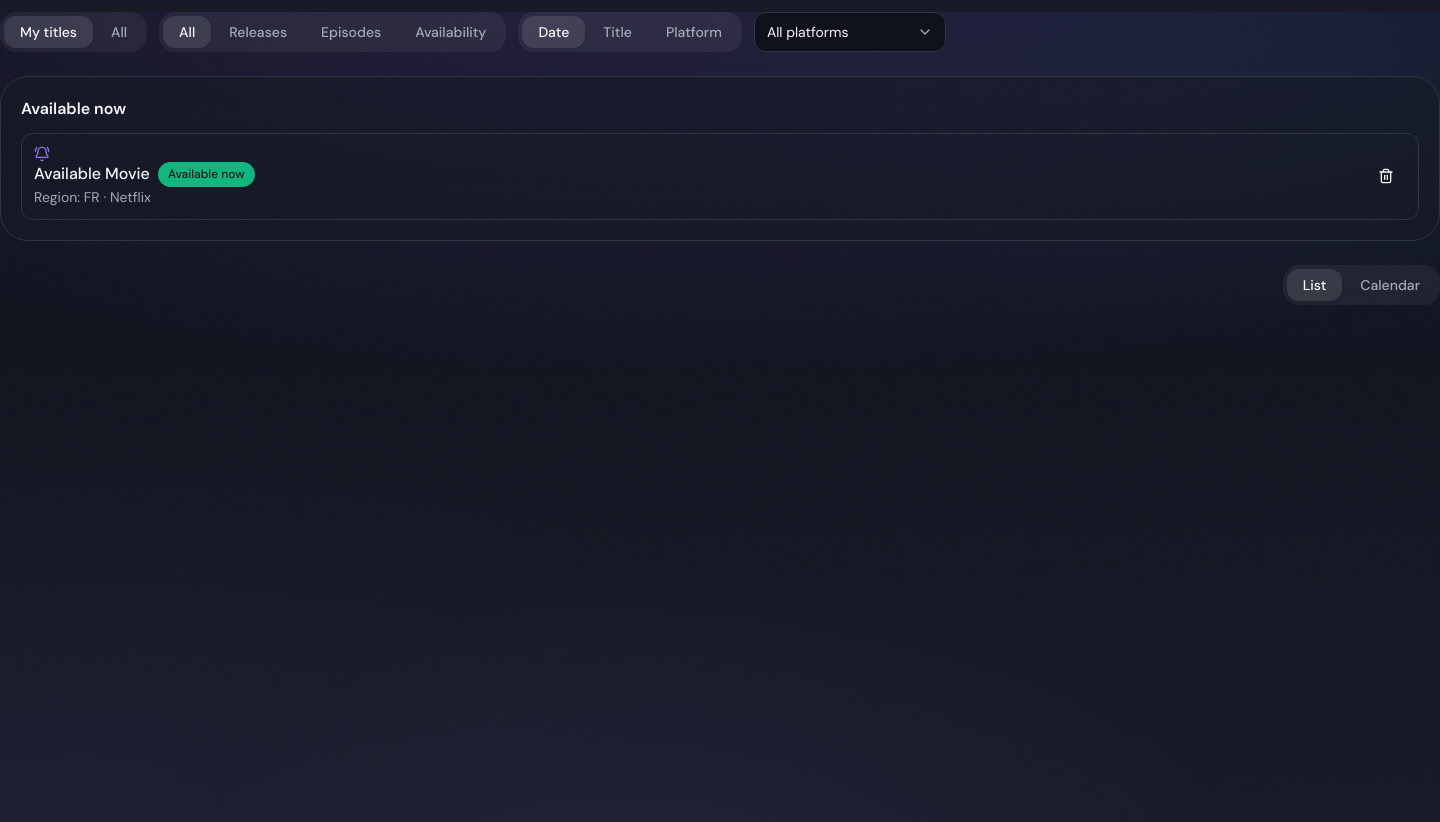
Test: TrackingList › hides the list/calendar toggle when only availability entries are shown
Click the button "Availability" at (451, 32), box [399, 16, 502, 48]
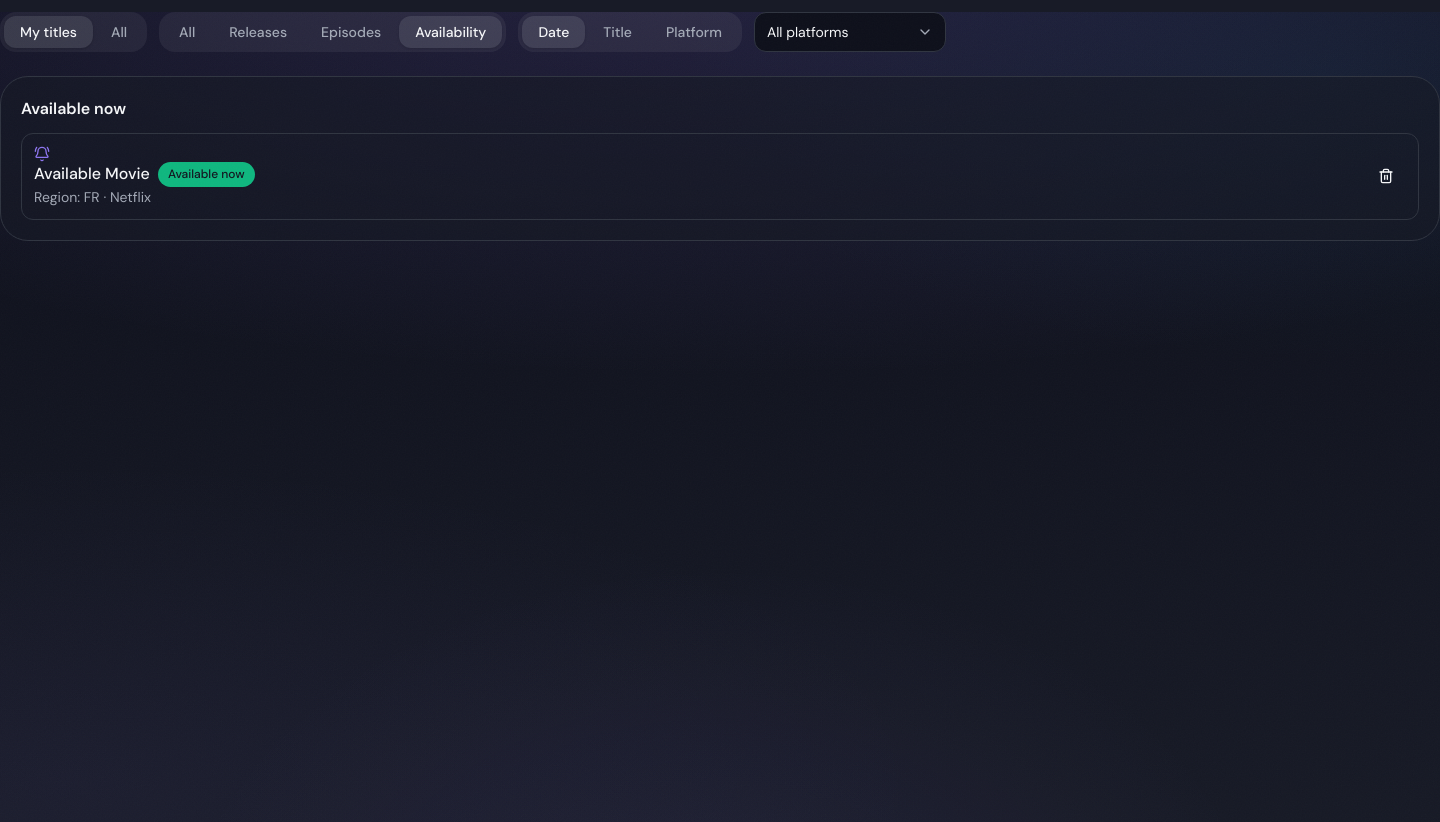
Check: the element "View" is gone
